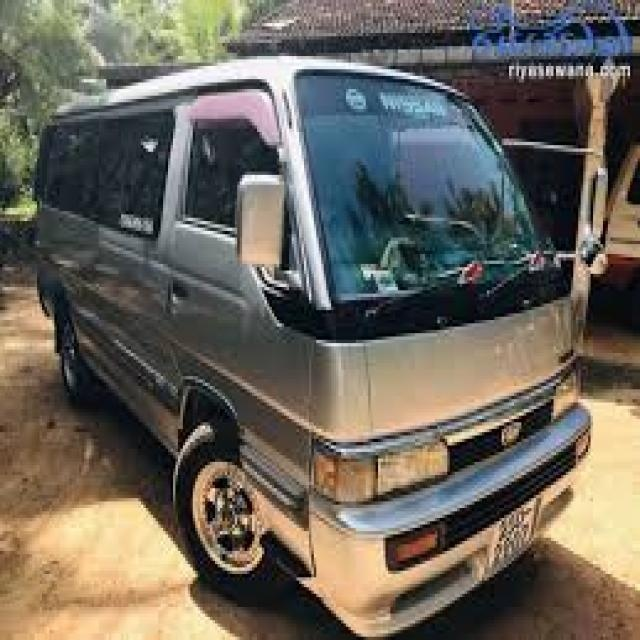Van: (37, 49, 593, 640)
